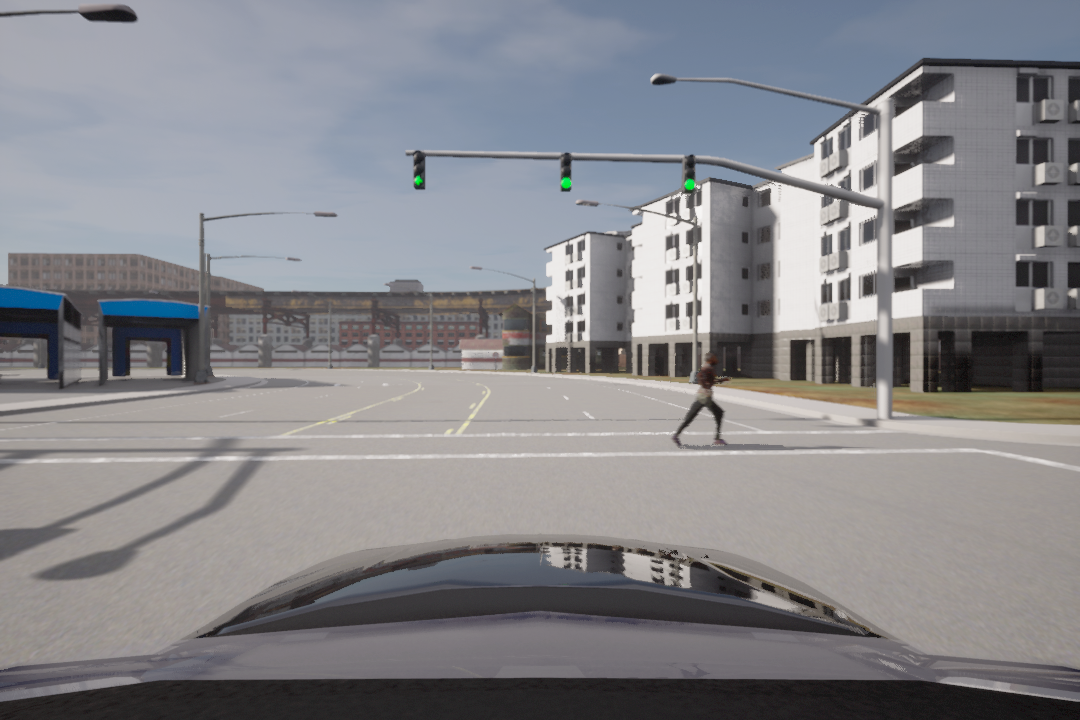TrafficLight: (409, 147, 429, 194), (681, 152, 698, 194), (557, 154, 575, 193)
